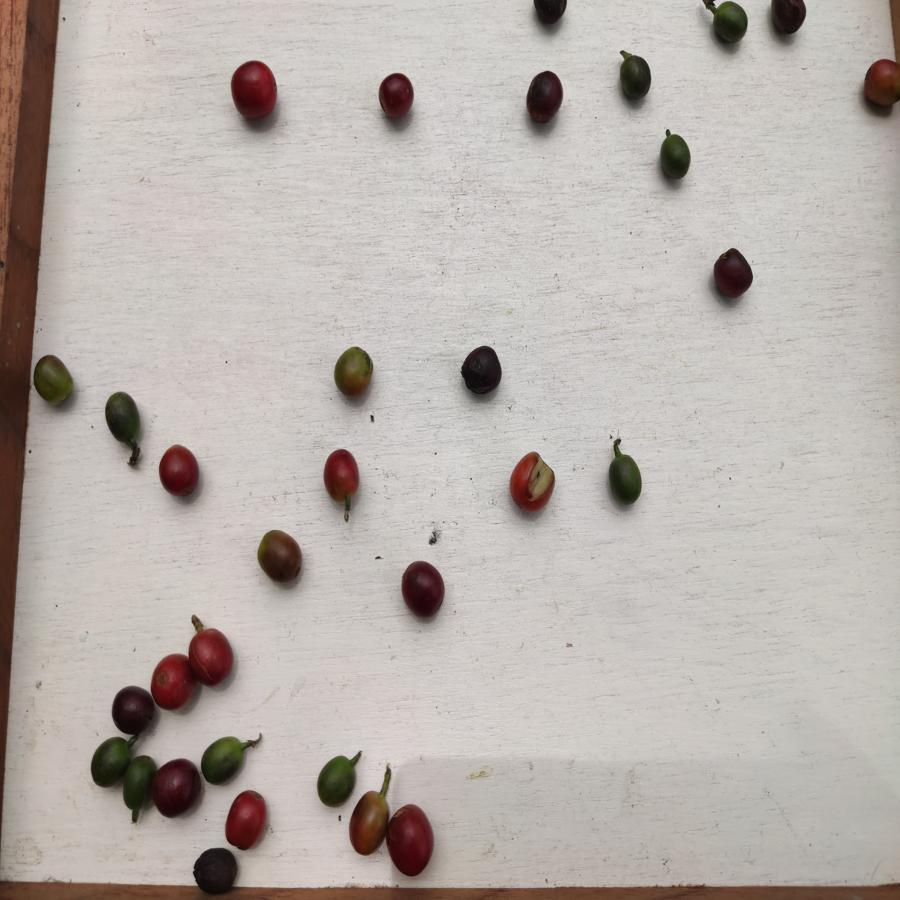Inmaduro: (198, 735, 252, 782), (606, 452, 647, 504), (103, 389, 142, 442), (317, 753, 356, 806), (617, 53, 653, 103), (659, 134, 693, 185), (713, 1, 750, 45)
Maduro: (389, 801, 438, 876), (230, 60, 282, 124), (225, 787, 268, 853), (507, 453, 555, 512), (189, 624, 236, 684), (153, 652, 198, 714), (158, 445, 203, 499), (320, 447, 362, 503)
Pinton: (256, 530, 308, 585), (31, 354, 81, 409), (350, 793, 389, 860), (860, 56, 900, 113), (333, 346, 374, 399)
Sobremaduro: (396, 559, 446, 617), (154, 759, 202, 818), (458, 346, 505, 397), (710, 247, 754, 299), (110, 684, 156, 732), (378, 72, 419, 124), (525, 69, 563, 125), (191, 848, 239, 890), (769, 1, 815, 33), (535, 1, 568, 26)
